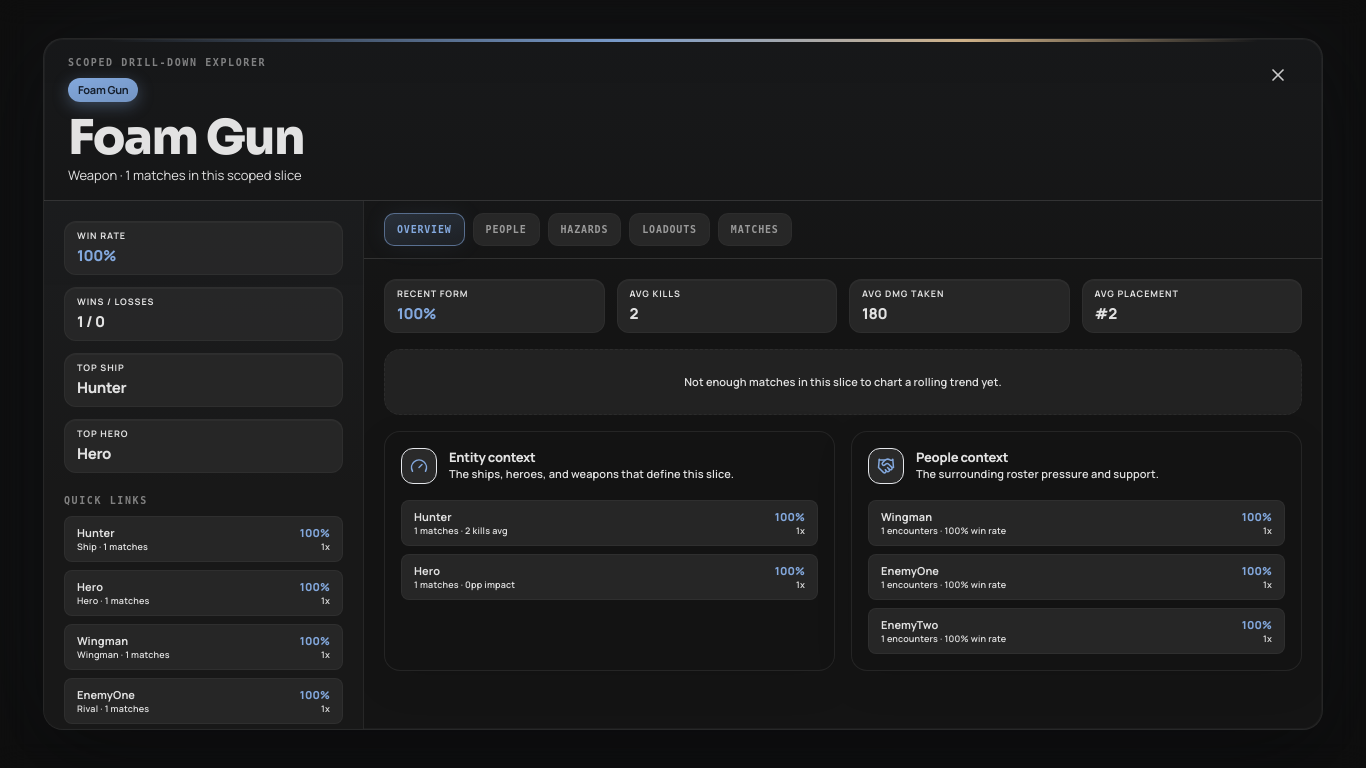
DrillDownOverlay › respects scoped match ids for weapon drill-downs
Click the button "Matches": [755, 230] box [718, 213, 792, 246]
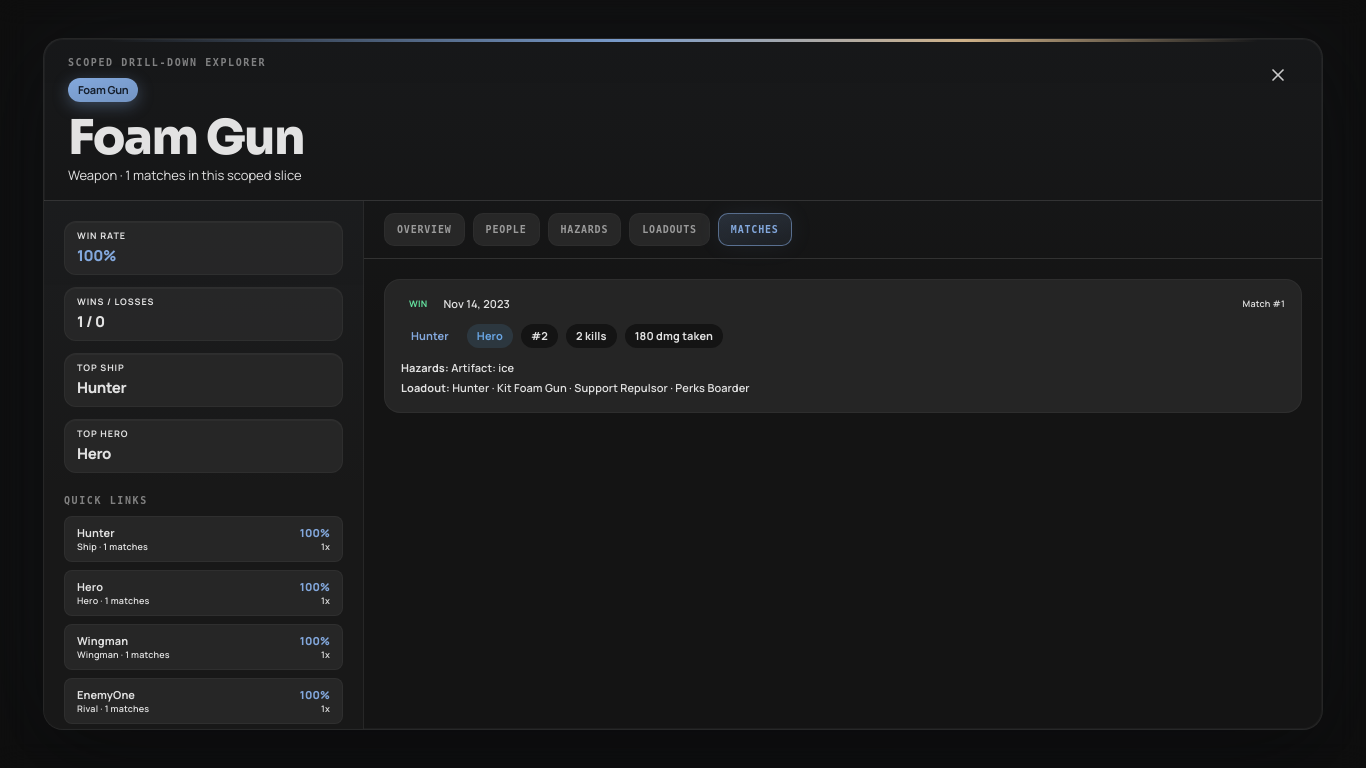
expect the text "Match #1" is shown: met, box [1243, 298, 1285, 310]
